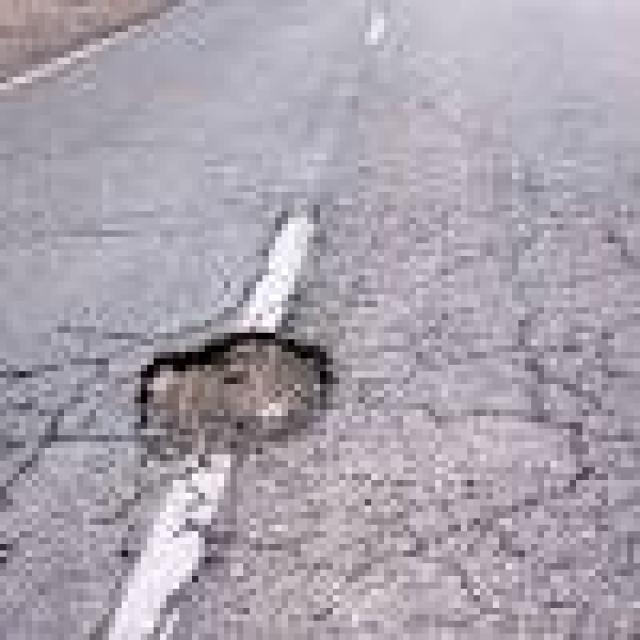Pothole: (134, 314, 333, 461), (134, 326, 333, 461)
